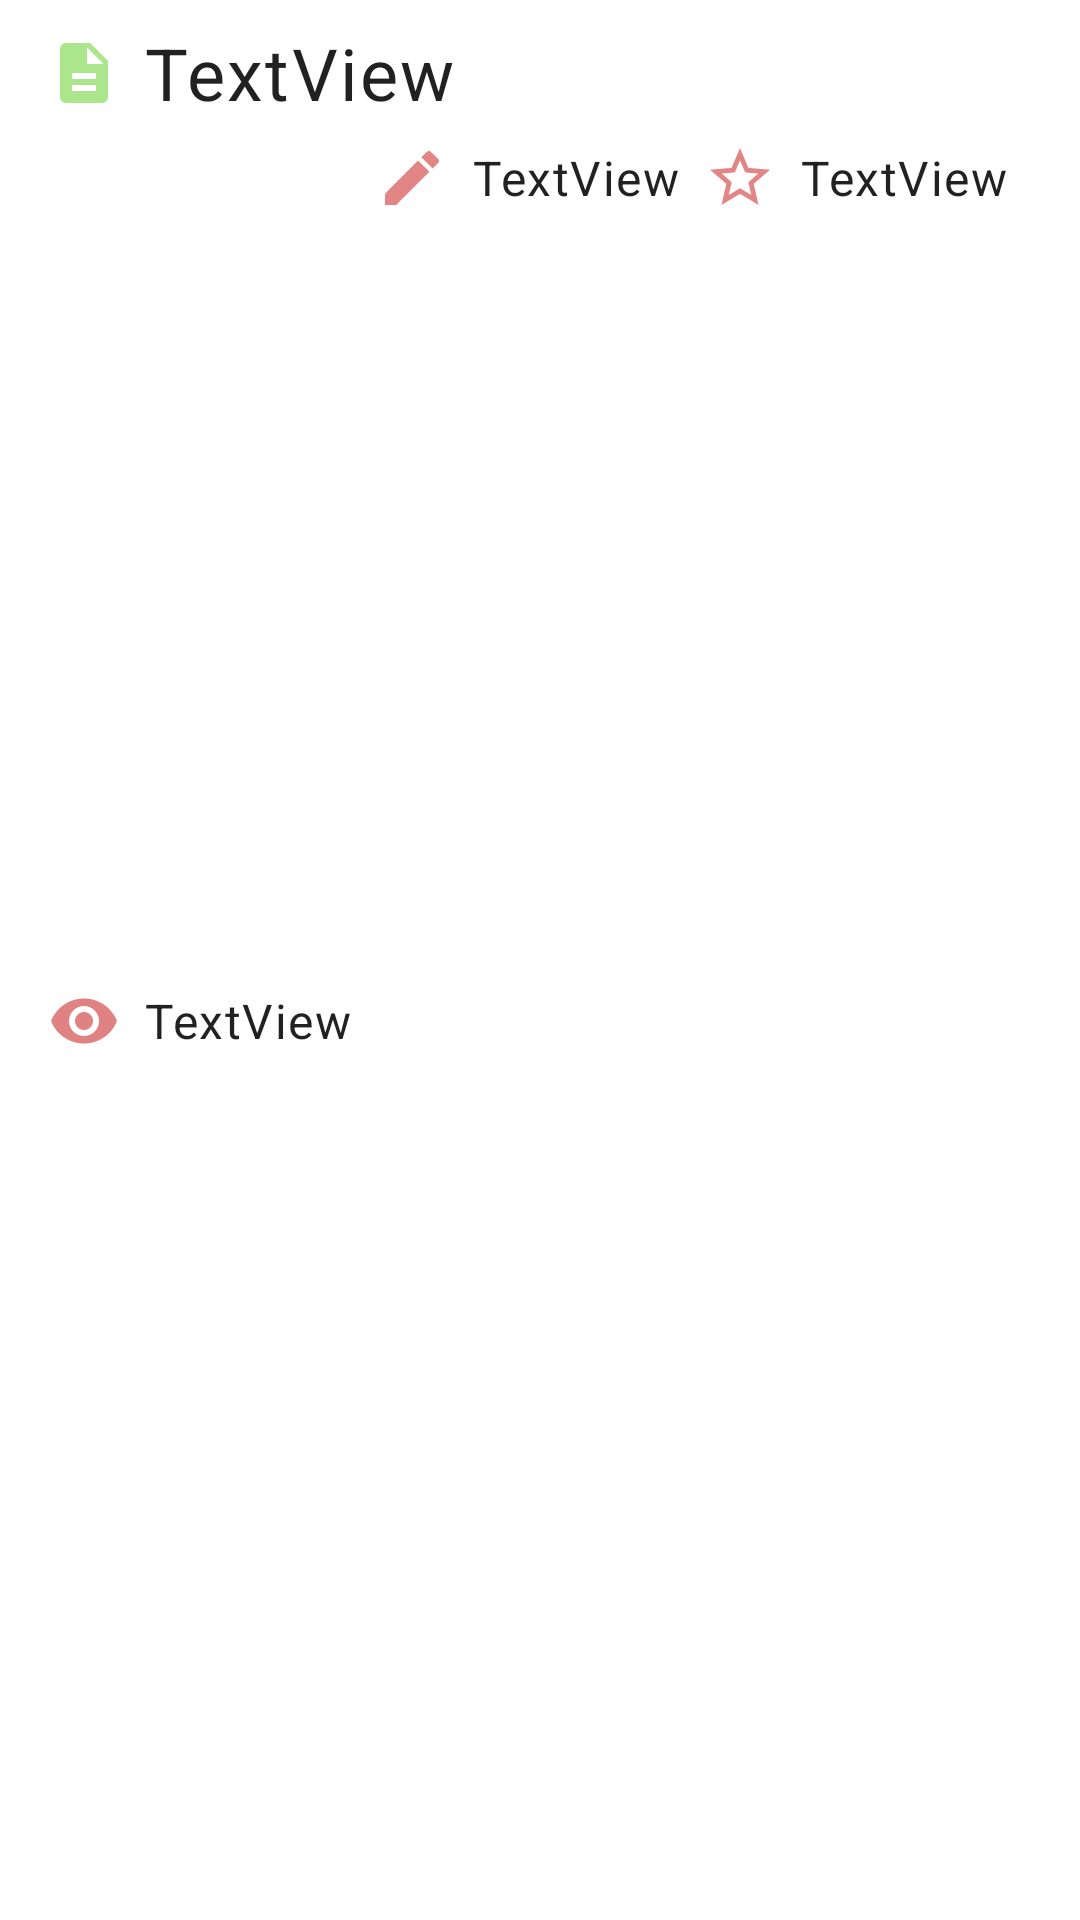

Named icons in this screenshot (1080*1920) and their bounding boxes, [x1,y1,x2,y2]:
create: [385,151,439,205]
description: [60,43,108,103]
star border: [711,149,769,205]
